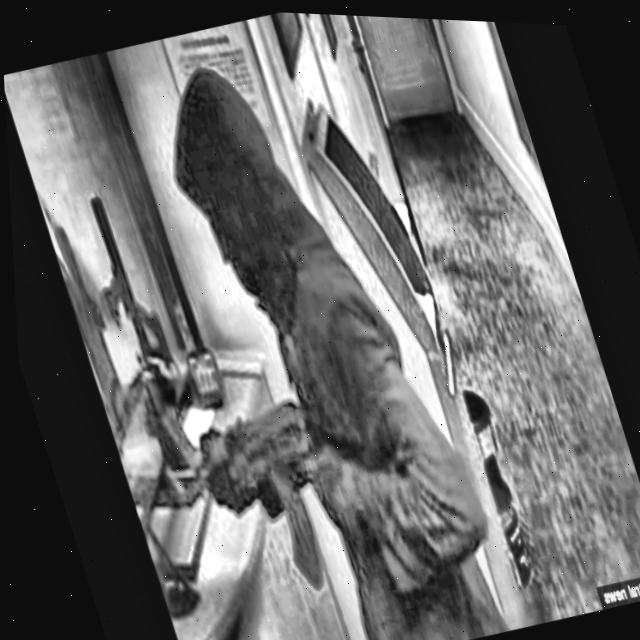robbery: (164, 46, 517, 640)
